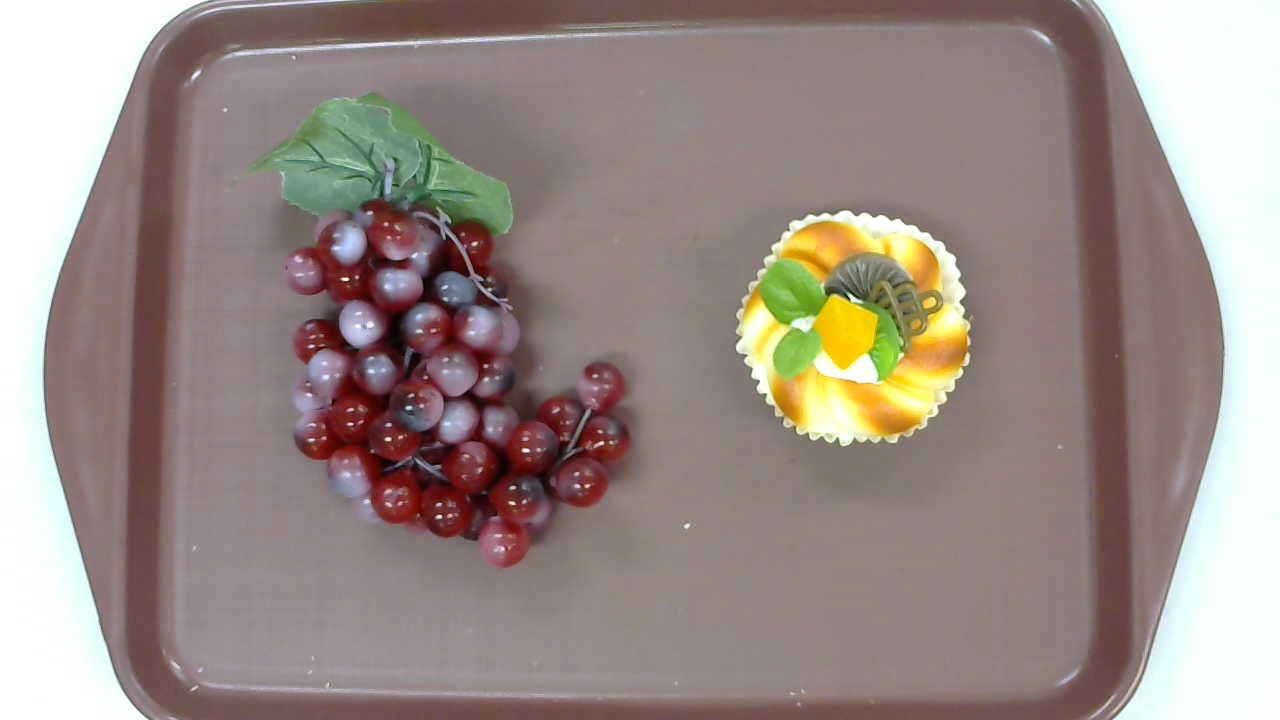fruit tart: (735, 209, 972, 448)
grape: (250, 91, 633, 572)
